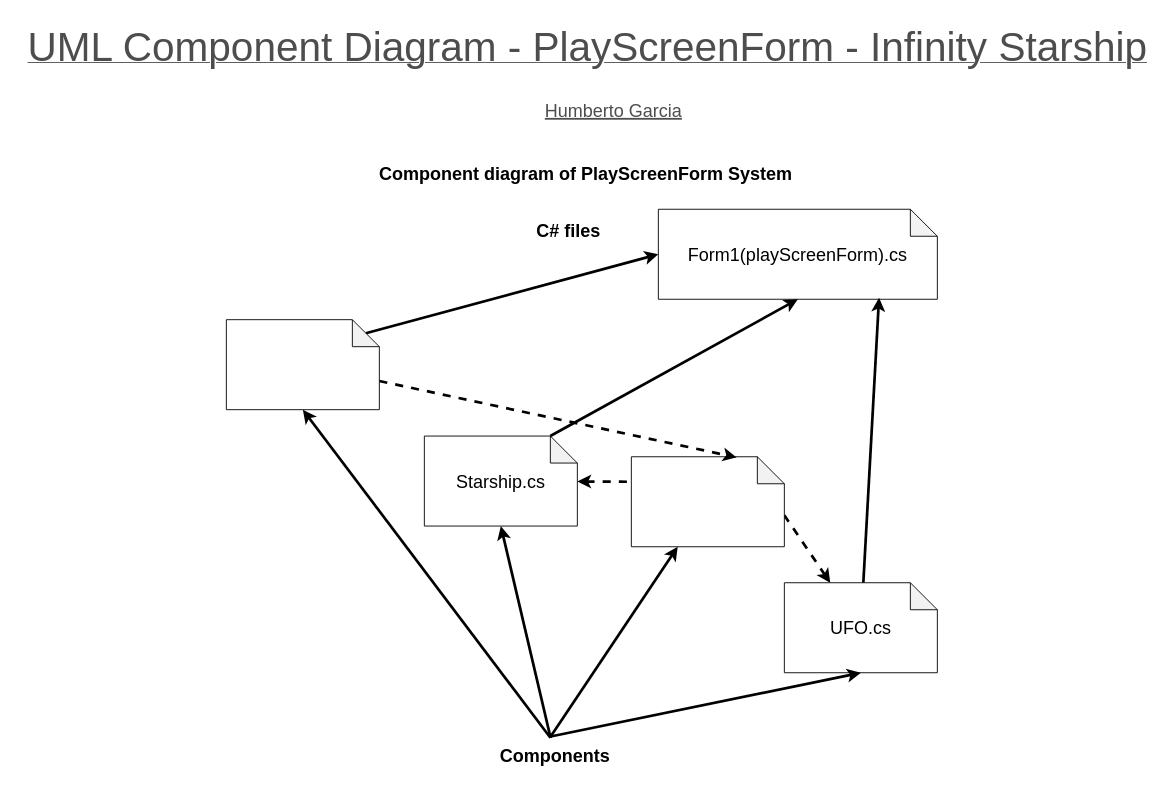
The diagram is 1174 pixels wide and 789 high, and some of its shapes have lost their labels. The centre of each missing label's shape, as x and y in pixels:
"Laser.cs" goes at point (707, 501).
"Score.cs" goes at point (302, 364).
